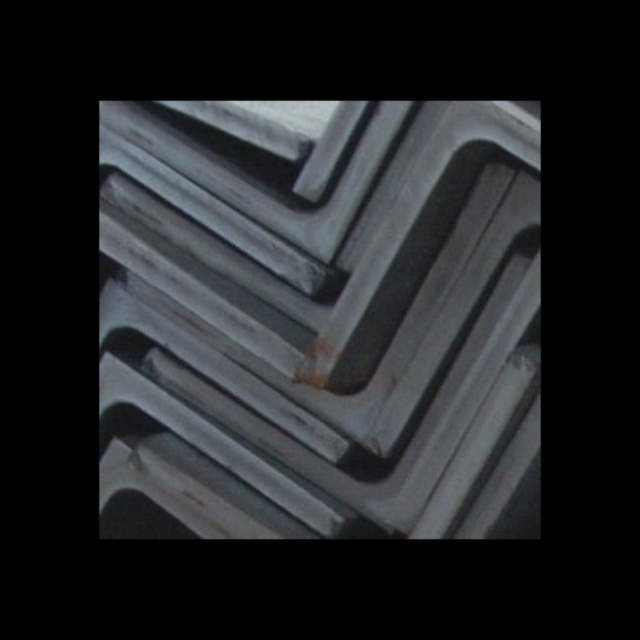Angle: (143, 178, 486, 421), (165, 282, 512, 506), (150, 370, 512, 539), (317, 121, 541, 373), (99, 101, 455, 236), (99, 145, 308, 366), (99, 311, 323, 515), (99, 219, 287, 438), (99, 372, 326, 539), (99, 101, 291, 298), (381, 203, 541, 430), (410, 285, 541, 509), (356, 101, 541, 254), (446, 355, 541, 539), (311, 101, 541, 175), (99, 479, 320, 539)
